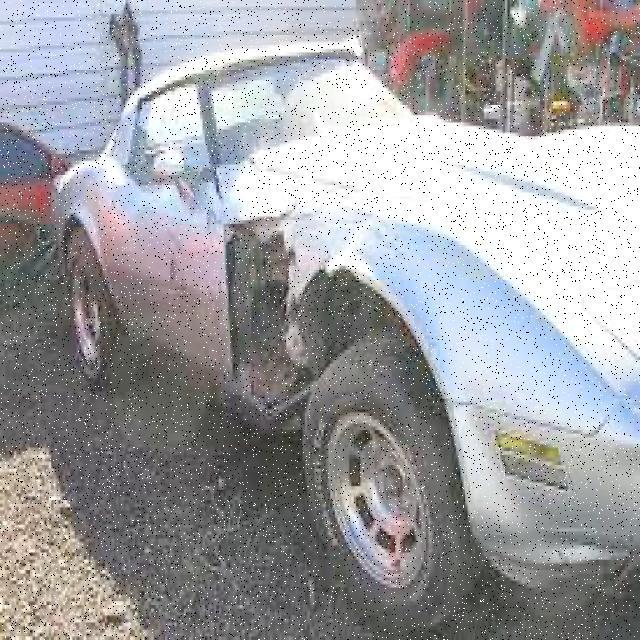car damage: (207, 152, 415, 418)
